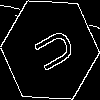U: (25, 25, 77, 79)
